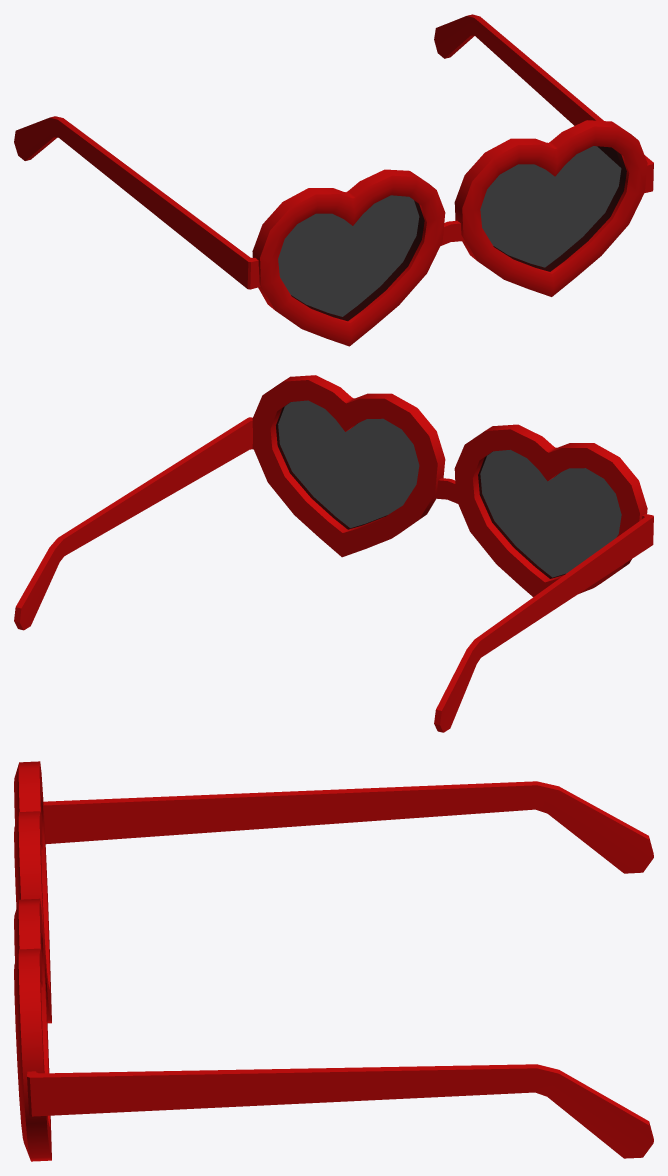
File: HeartSunglasses.fbx
The picture shows the model from 3 angles, top to bottom: view 1: azimuth 30°, elevation 25°; view 2: azimuth 150°, elevation 25°; view 3: azimuth 270°, elevation 25°; orthographic projection. The views are drawn at different scales.
Visible parts, largest first — view 1: HeartSunglasses; view 2: HeartSunglasses; view 3: HeartSunglasses.
Boxes of the visible parts, box(x1,y1,x2,y2) form: HeartSunglasses: box(14, 14, 653, 346); HeartSunglasses: box(14, 375, 653, 732); HeartSunglasses: box(14, 761, 653, 1161).
Bounding box in the file's own units: 72.27 × 26.81 × 67.52.
